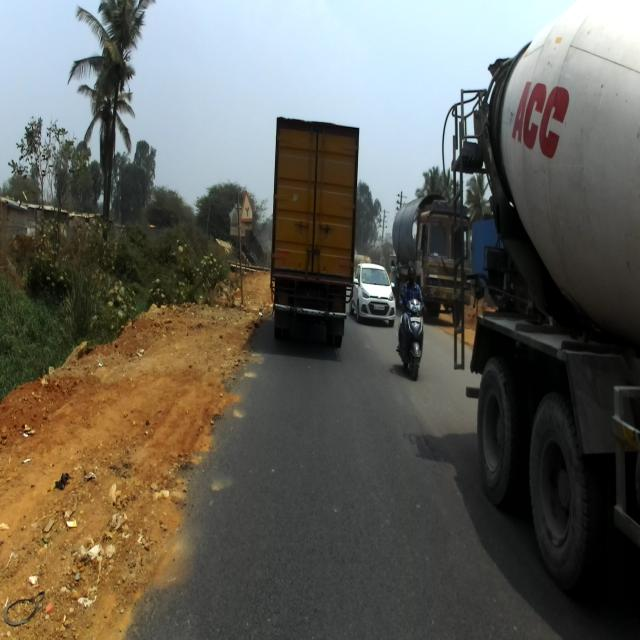motorcycle ahead at: (396, 292, 430, 389)
truck ahead at: (442, 0, 640, 617), (274, 112, 357, 350)
